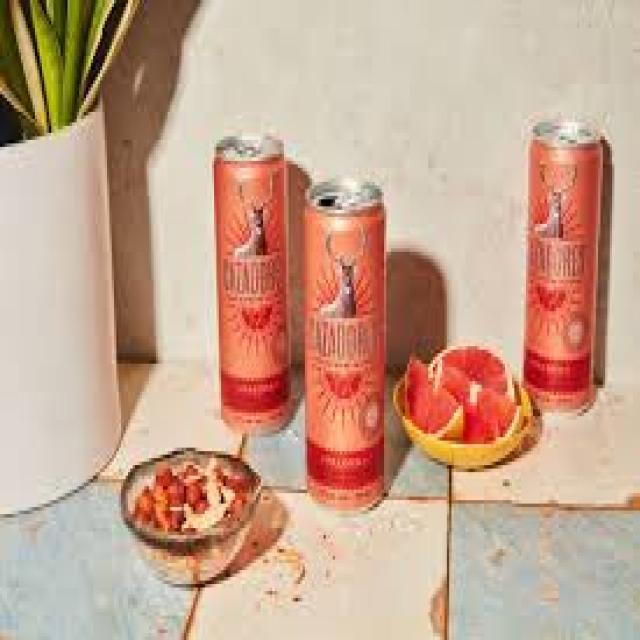Cans: (298, 168, 389, 517), (212, 129, 298, 434), (524, 112, 608, 416)
